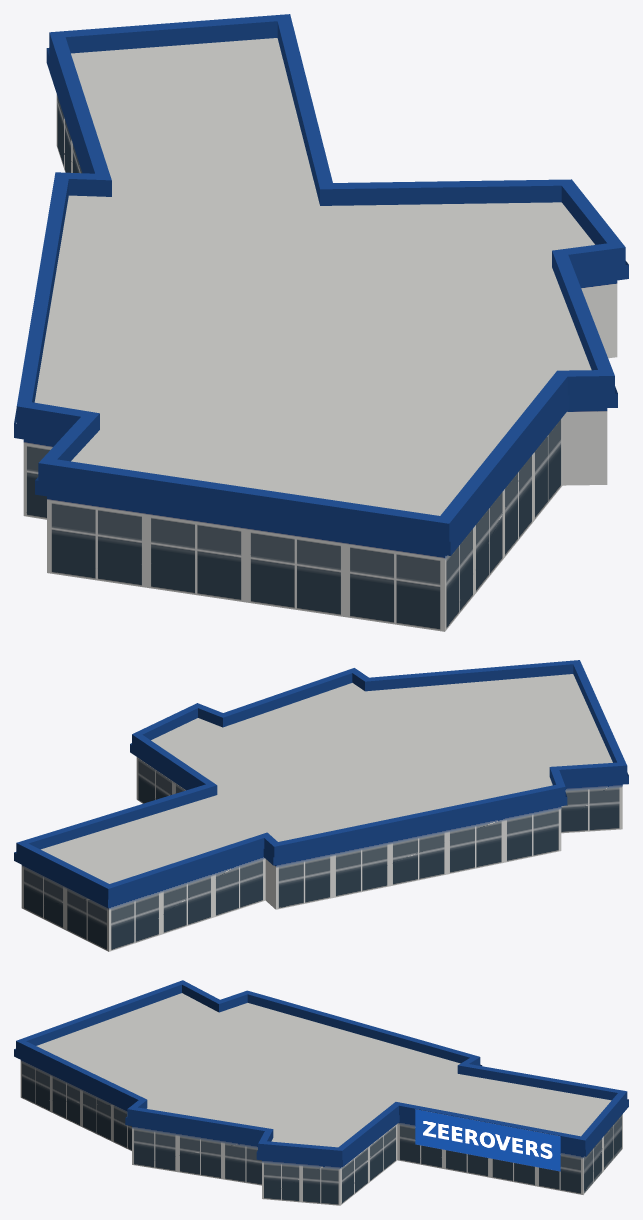
The model's file is zeerovers.glb.
3 renders of one model, top to bottom at view 1: azimuth 30°, elevation 25°; view 2: azimuth 150°, elevation 25°; view 3: azimuth 270°, elevation 25°, orthographic. The views are drawn at different scales.
Parts seen in each view (by area): view 1: zeerovers_lod0; view 2: zeerovers_lod0; view 3: zeerovers_lod0.
Boxes of the visible parts, x1,y1,x2,y2 form: zeerovers_lod0: (14, 14, 628, 631); zeerovers_lod0: (14, 660, 628, 951); zeerovers_lod0: (14, 980, 628, 1205).
Size of what is drawn, in the model's own units: 30.7 by 4.77 by 46.34.
4 materials, 2 textured.
